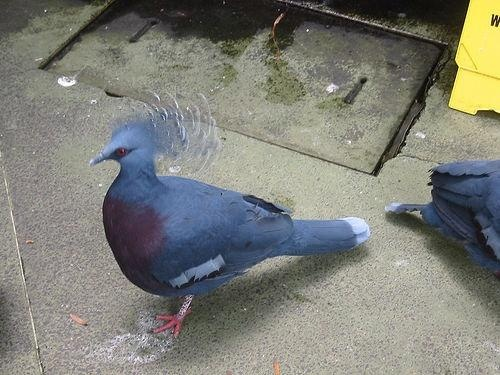bird: (90, 118, 372, 342), (382, 160, 500, 282)
